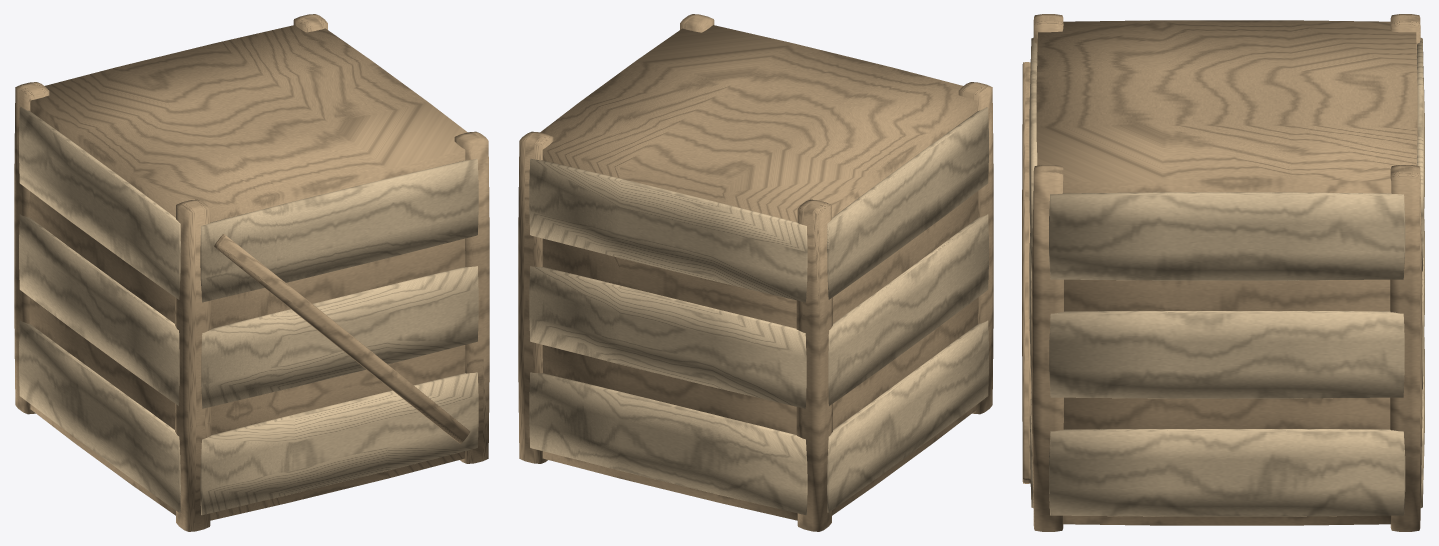
File: crate.glb
The picture shows the model from 3 angles, left to right: view 1: azimuth 30°, elevation 25°; view 2: azimuth 150°, elevation 25°; view 3: azimuth 270°, elevation 25°; orthographic projection. The views are drawn at different scales.
Visible parts, largest first — view 1: crate_body; view 2: crate_body; view 3: crate_body.
Boxes of the visible parts, x1=… form: crate_body: x1=14, y1=14, x2=489, y2=531; crate_body: x1=518, y1=14, x2=993, y2=531; crate_body: x1=1022, y1=14, x2=1424, y2=531.
Bounding box in the file's own units: 0.82 × 0.82 × 0.835.
2 materials, 2 textured.
